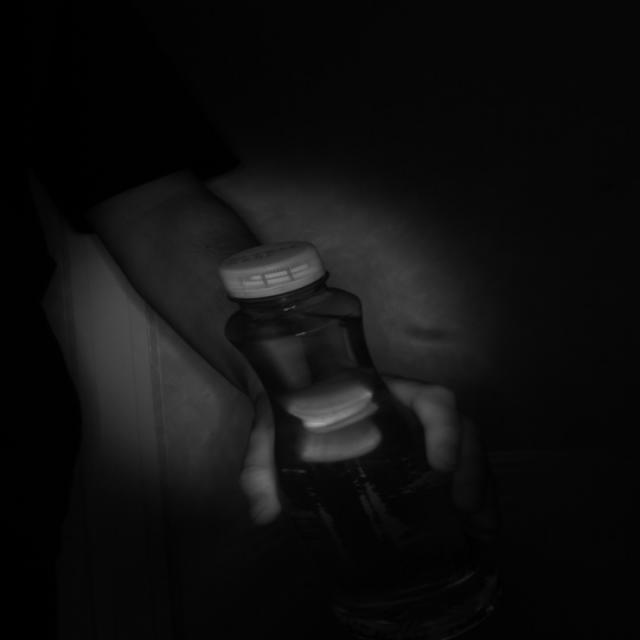Good: (210, 238, 331, 302)
